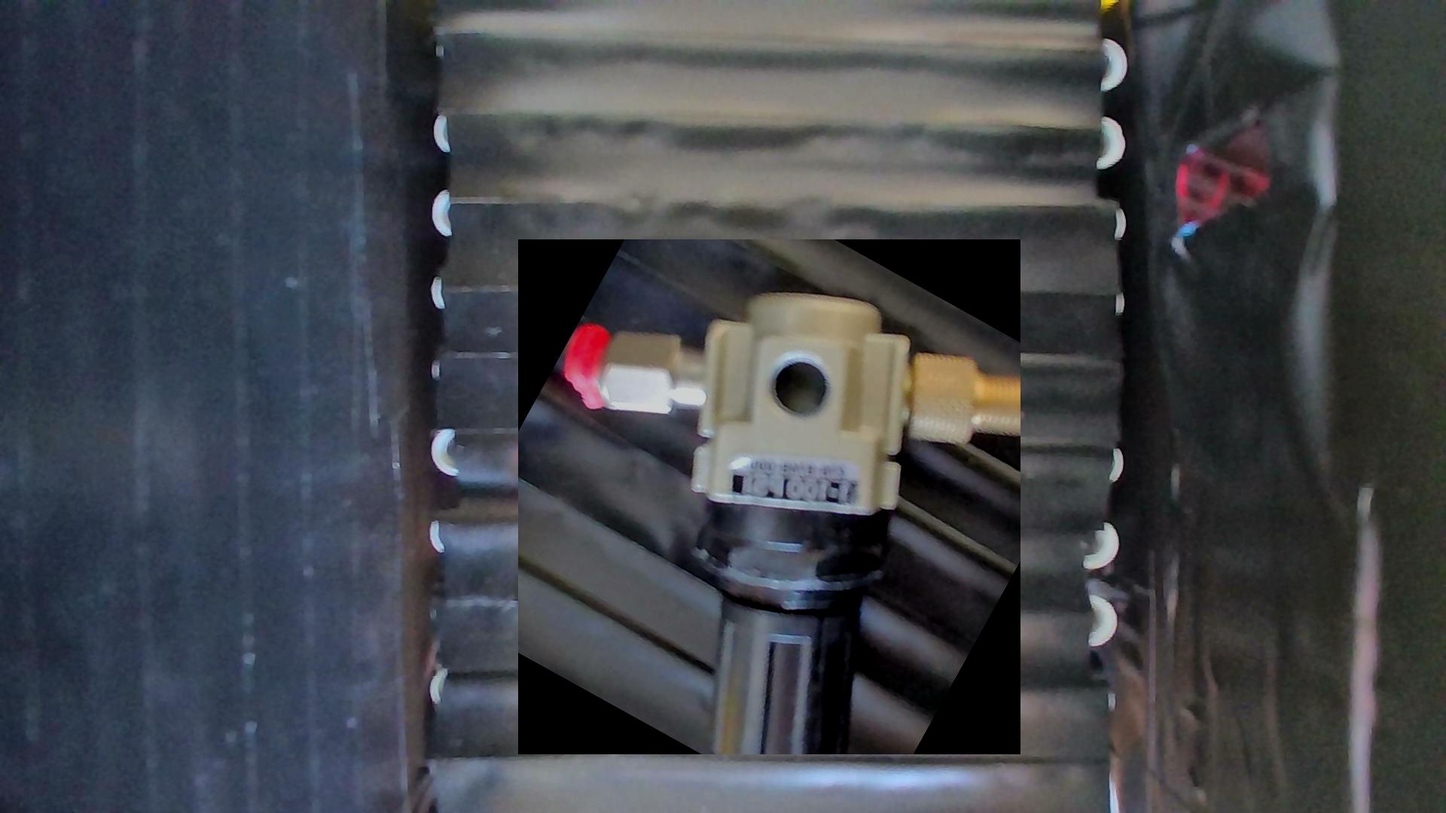regulator: (518, 239, 1020, 754)
